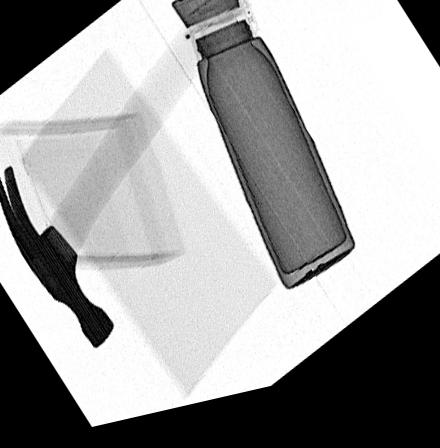Hammer: (0, 0, 250, 353)
